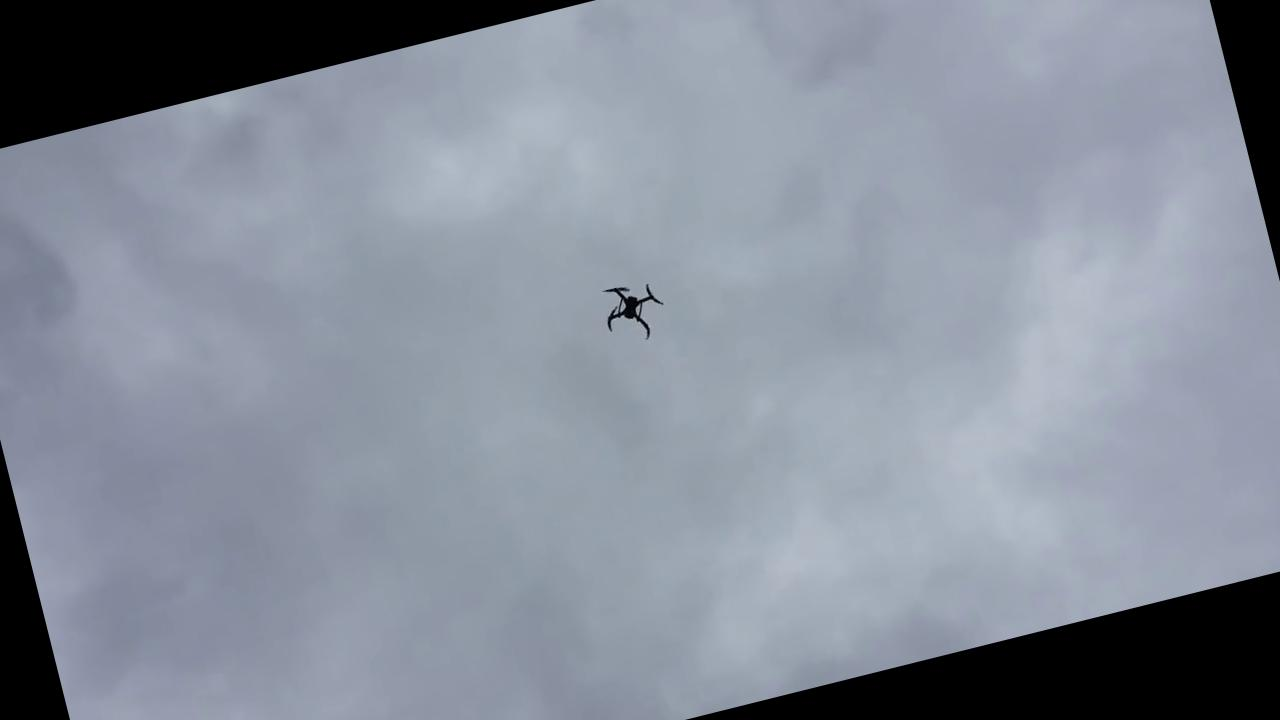drone: (582, 263, 674, 356)
